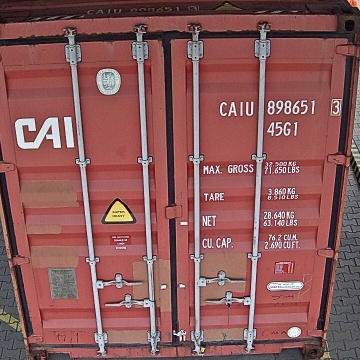serial_id: (219, 99, 341, 115)
